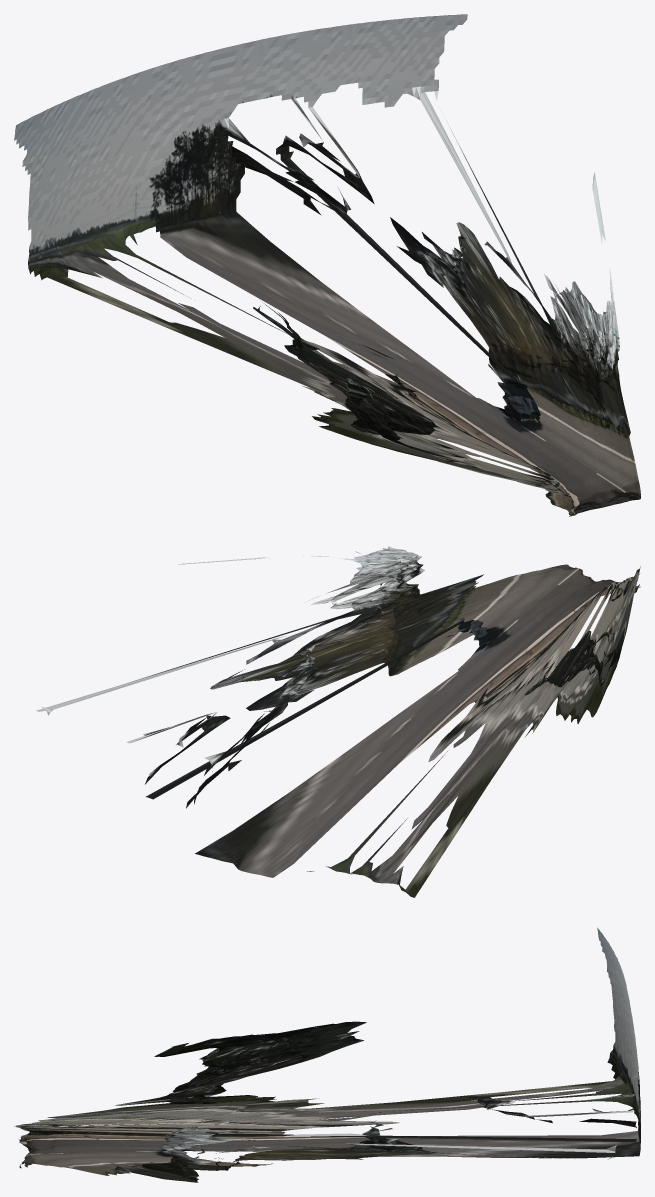
3 renders of one model, top to bottom at view 1: azimuth 30°, elevation 25°; view 2: azimuth 150°, elevation 25°; view 3: azimuth 270°, elevation 25°, orthographic. The views are drawn at different scales.
Visible parts, largest first — view 1: defaultobject; view 2: defaultobject; view 3: defaultobject.
Part boxes in pixels (x1,y1,x2,y2): defaultobject: (14,14,640,516); defaultobject: (35,546,640,897); defaultobject: (14,927,640,1182).
Size of the model in its own units: 29.92 by 11.75 by 44.95.
Materials: 1 (1 with a texture image).
